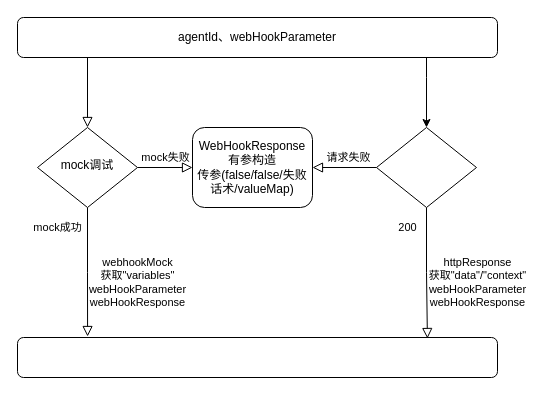
Image size: 555x395. Some labels were removed from this diagram. Each missing label, with the centre of its shape:
processResponseAnswer(response,webHookParameter,webHookResponse): the point at 257,357
request: the point at 426,167
